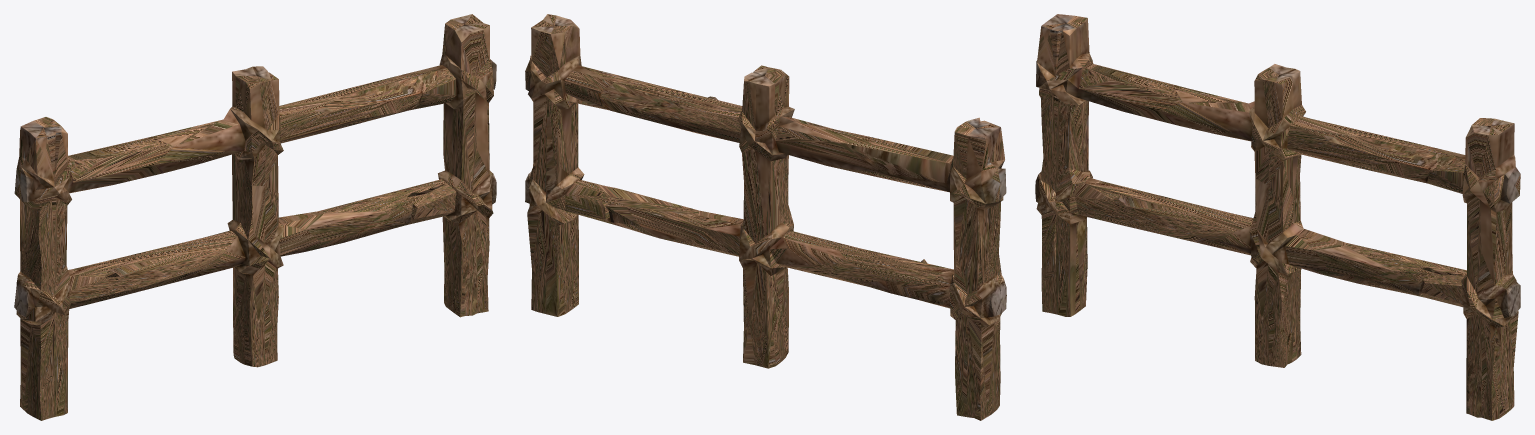
File: prop_wooden_fence.83a02f72.glb
The picture shows the model from 3 angles, left to right: view 1: azimuth 30°, elevation 25°; view 2: azimuth 150°, elevation 25°; view 3: azimuth 330°, elevation 25°; orthographic projection.
Parts seen in each view (by area): view 1: tripo_node_bc2c31a9-7560-4d68-a77d-667bbdb70b39; view 2: tripo_node_bc2c31a9-7560-4d68-a77d-667bbdb70b39; view 3: tripo_node_bc2c31a9-7560-4d68-a77d-667bbdb70b39.
Boxes of the visible parts, <box> form: tripo_node_bc2c31a9-7560-4d68-a77d-667bbdb70b39: <box>14,14,496,420</box>; tripo_node_bc2c31a9-7560-4d68-a77d-667bbdb70b39: <box>525,14,1006,420</box>; tripo_node_bc2c31a9-7560-4d68-a77d-667bbdb70b39: <box>1035,14,1520,420</box>.
Size of the model in its own units: 2.26 by 1.3 by 0.2655.
Materials: 1 (1 with a texture image).
